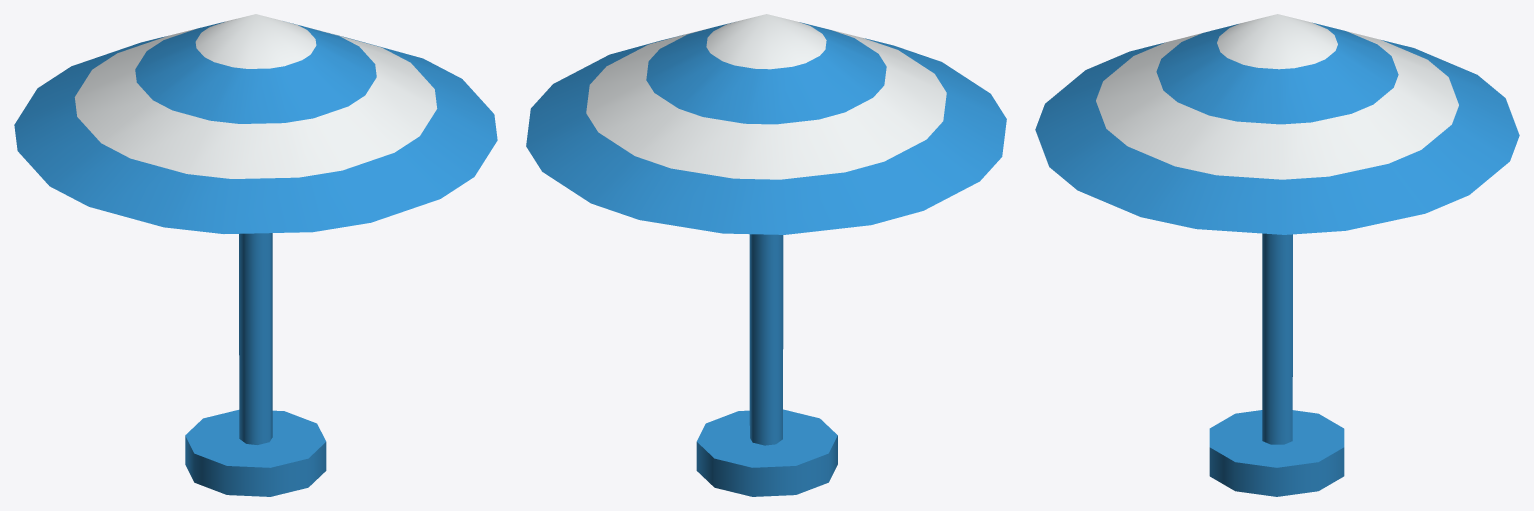
File: umbrella01_s03.FBX
3 views of the same model, side by side, from view 1: azimuth 30°, elevation 25°; view 2: azimuth 150°, elevation 25°; view 3: azimuth 270°, elevation 25° (orthographic).
Parts seen in each view (by area): view 1: umbrella01_s03; view 2: umbrella01_s03; view 3: umbrella01_s03.
Part boxes in pixels (x1,y1,x2,y2): umbrella01_s03: [14, 14, 497, 496]; umbrella01_s03: [526, 14, 1006, 496]; umbrella01_s03: [1035, 14, 1519, 496].
Size of the model in its own units: 324 by 324 by 334.
Materials: 1 (1 with a texture image).
